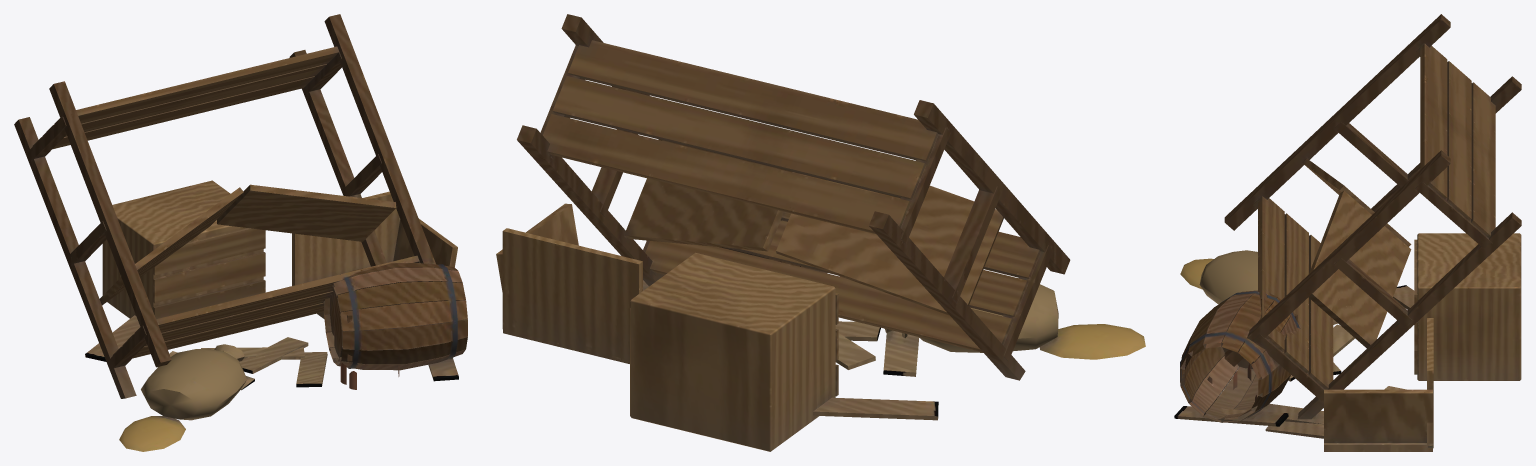
File: wreck-heap.hq.glb
3 renders of one model, left to right at view 1: azimuth 30°, elevation 25°; view 2: azimuth 150°, elevation 25°; view 3: azimuth 270°, elevation 25°, orthographic. The views are drawn at different scales.
Parts seen in each view (by area): view 1: wreck-heap; view 2: wreck-heap; view 3: wreck-heap.
Part boxes in pixels (x1=…): wreck-heap: x1=14, y1=14, x2=467, y2=451; wreck-heap: x1=496, y1=14, x2=1145, y2=451; wreck-heap: x1=1174, y1=14, x2=1521, y2=451.
Bounding box in the file's own units: 1.77 × 1.14 × 1.34.
1 material, 1 textured.
